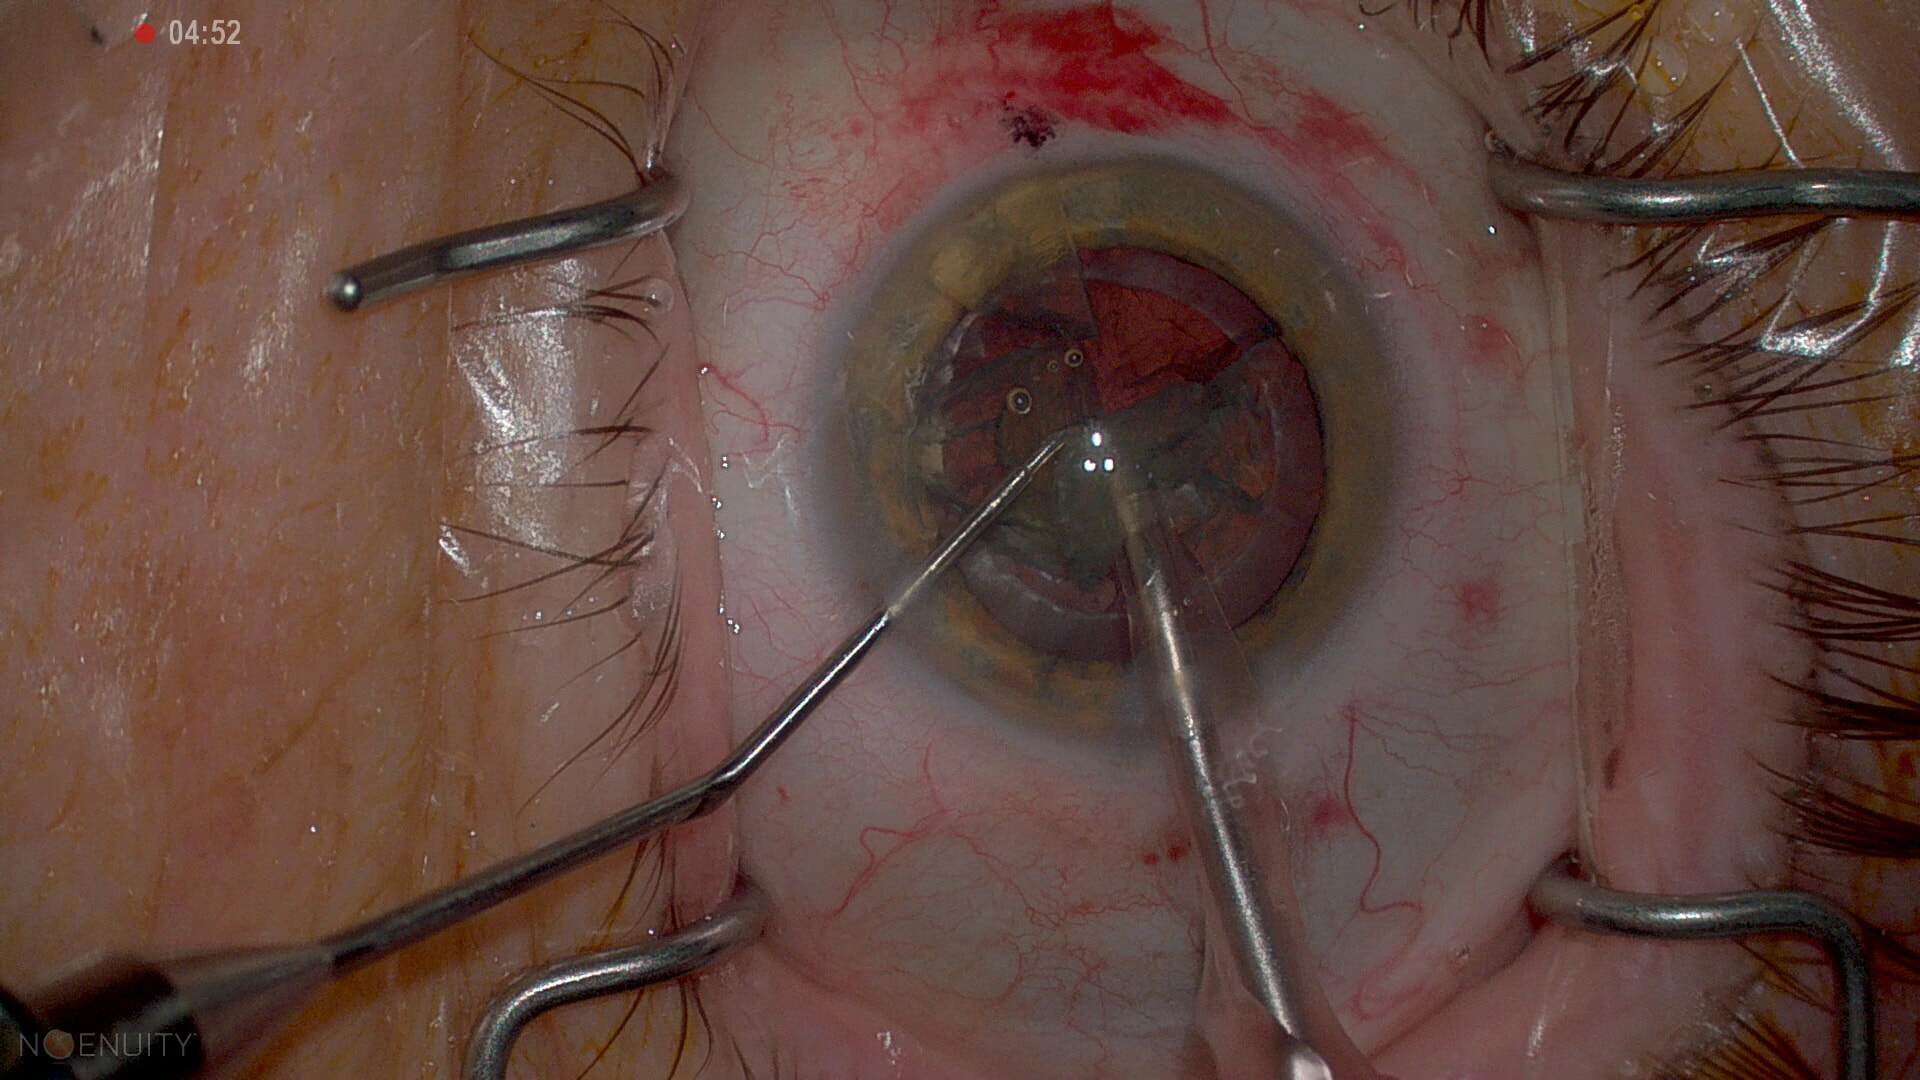iris: (842, 157, 1408, 726)
pupil: (922, 239, 1323, 656)
